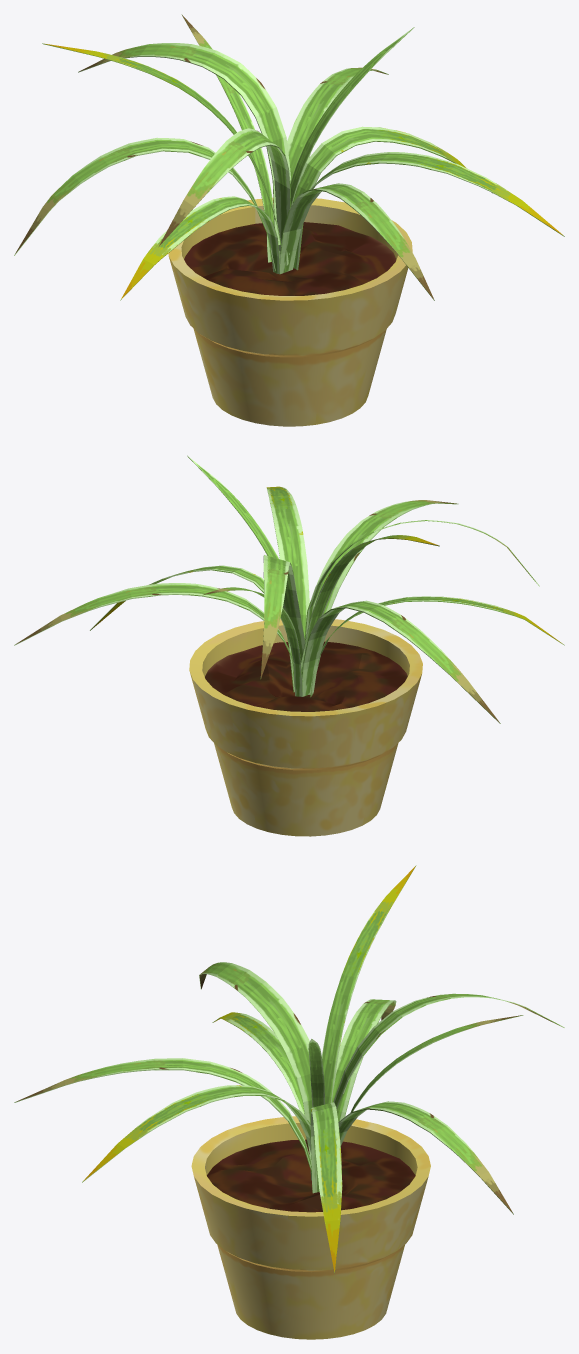
The model's file is Chlorophytum_Neutral_end.glb.
3 renders of one model, top to bottom at view 1: azimuth 30°, elevation 25°; view 2: azimuth 150°, elevation 25°; view 3: azimuth 270°, elevation 25°, orthographic. The views are drawn at different scales.
Visible parts, largest first — view 1: Pot, Cube.013; view 2: Pot, Cube.013; view 3: Pot, Cube.013.
Part boxes in pixels (<box>): Pot: <box>168,197,412,426</box>; Cube.013: <box>14,14,564,300</box>; Pot: <box>189,619,422,836</box>; Cube.013: <box>14,455,564,723</box>; Pot: <box>191,1116,430,1339</box>; Cube.013: <box>14,865,564,1273</box>.
Bounding box in the file's own units: 4.38 × 3.3 × 4.71.
Materials: 4 (4 with a texture image).
